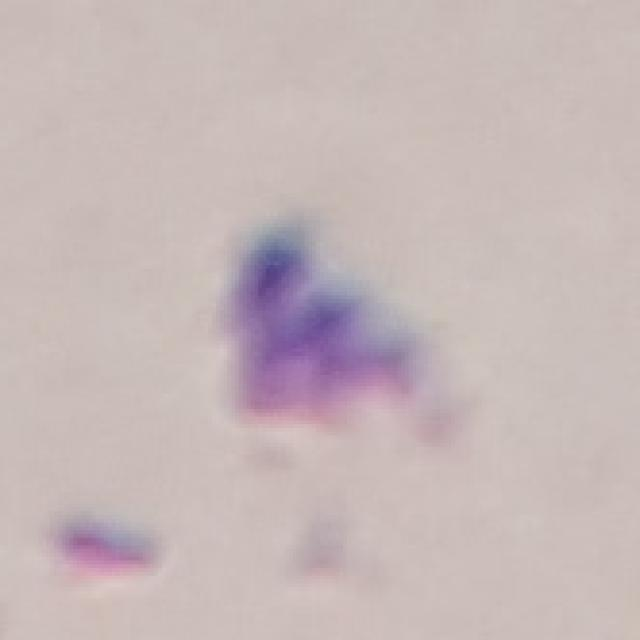non-sperm: (226, 218, 472, 464)
